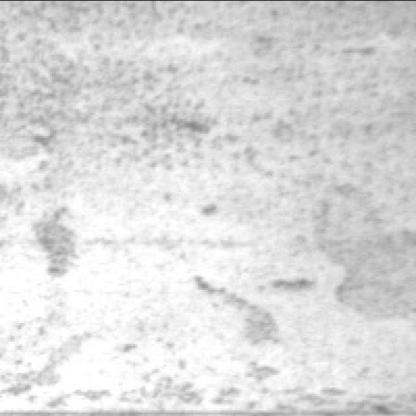pitted_surface: (27, 25, 401, 331)
